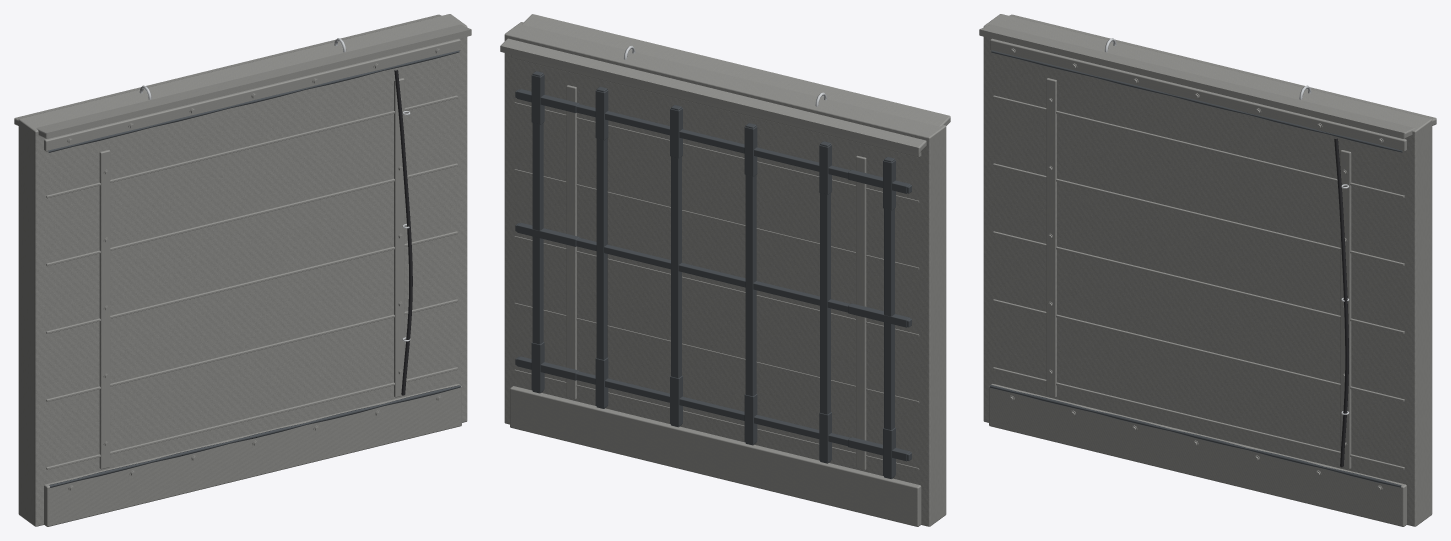
File: fps-survival-forest-outpost-wall-bay-concrete-8adc6c13__32609.glb
The picture shows the model from 3 angles, left to right: view 1: azimuth 30°, elevation 25°; view 2: azimuth 150°, elevation 25°; view 3: azimuth 330°, elevation 25°; orthographic projection.
Visible parts, largest first — view 1: wall-bay-concrete; view 2: wall-bay-concrete; view 3: wall-bay-concrete.
Part boxes in pixels (box(x1,y1,x2,y2)): wall-bay-concrete: box(14, 14, 471, 526); wall-bay-concrete: box(500, 14, 950, 526); wall-bay-concrete: box(979, 14, 1436, 526).
Bounding box in the file's own units: 4 × 3.59 × 0.52.
Materials: 4 (1 with a texture image).
